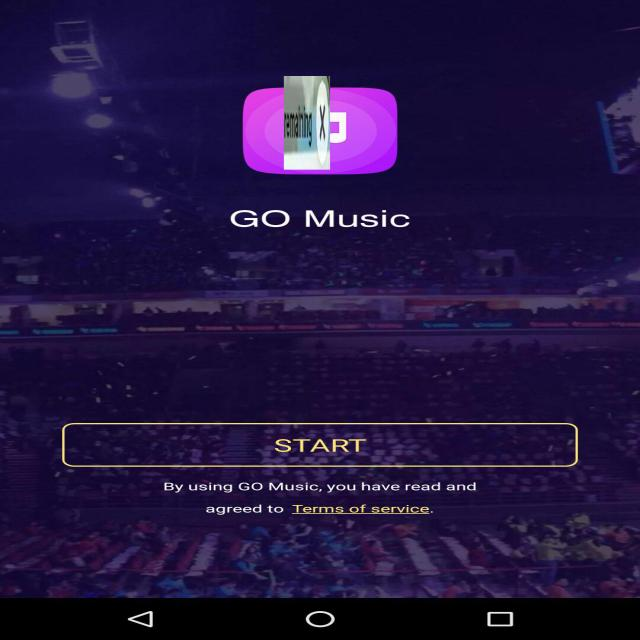misdirection: (284, 76, 330, 170)
